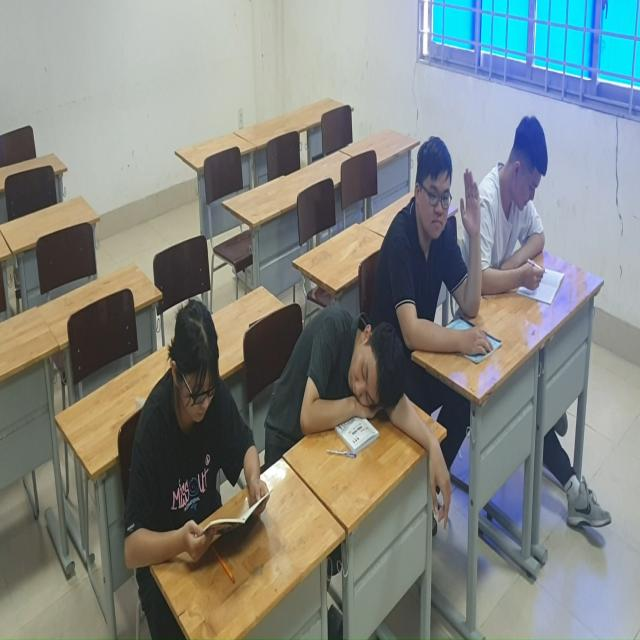raise_hand: (385, 135, 488, 374)
read: (121, 272, 277, 584), (489, 110, 568, 310)
sleep: (257, 294, 454, 531)
